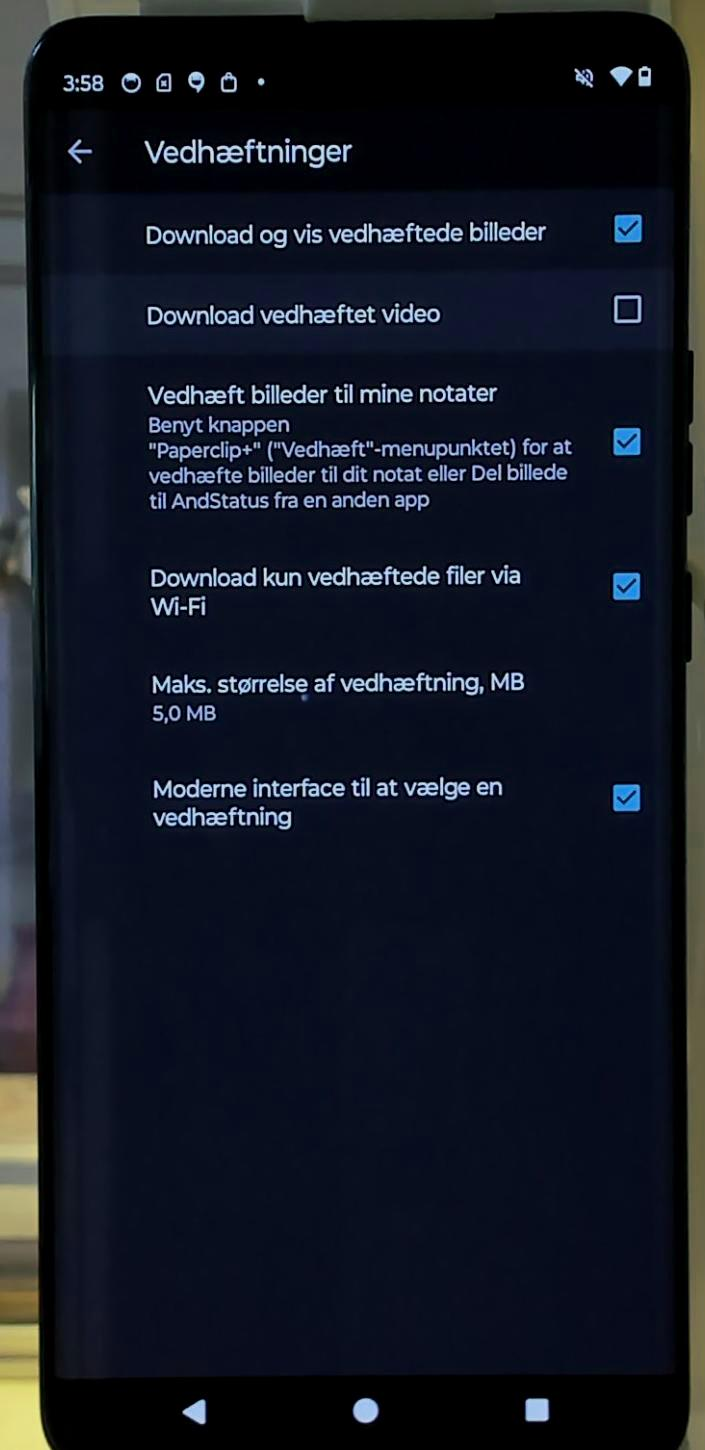Checkbox: (132, 200, 646, 260)
